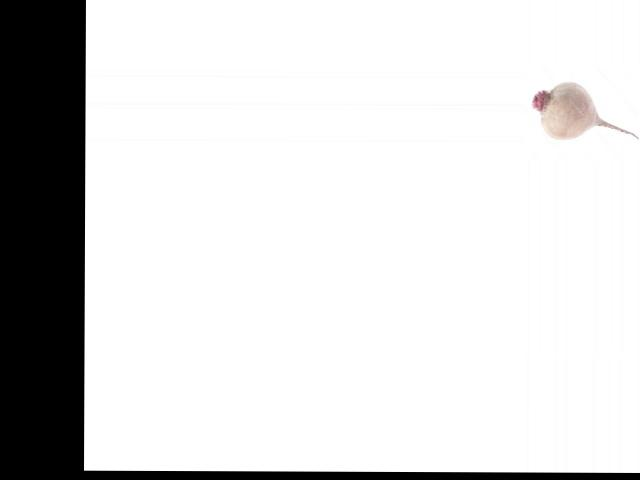beet: (532, 80, 638, 140)
